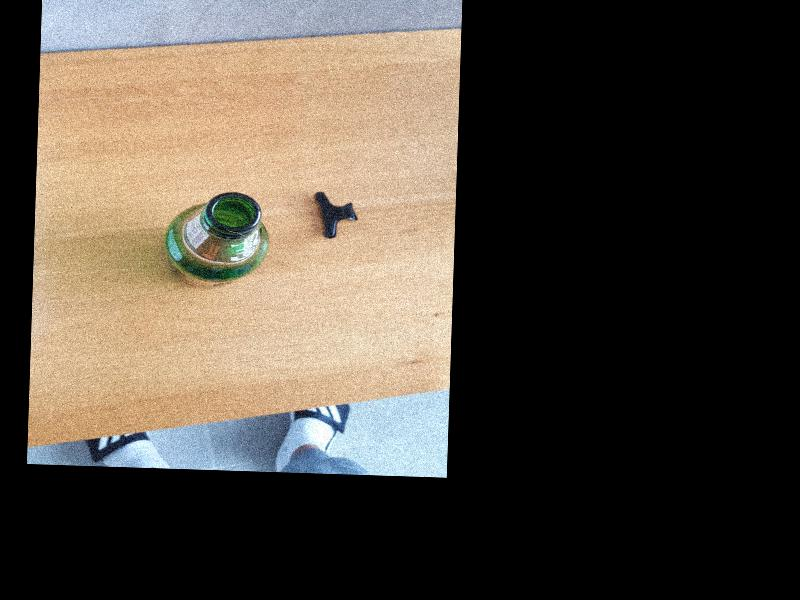Beer: (163, 190, 273, 291)
